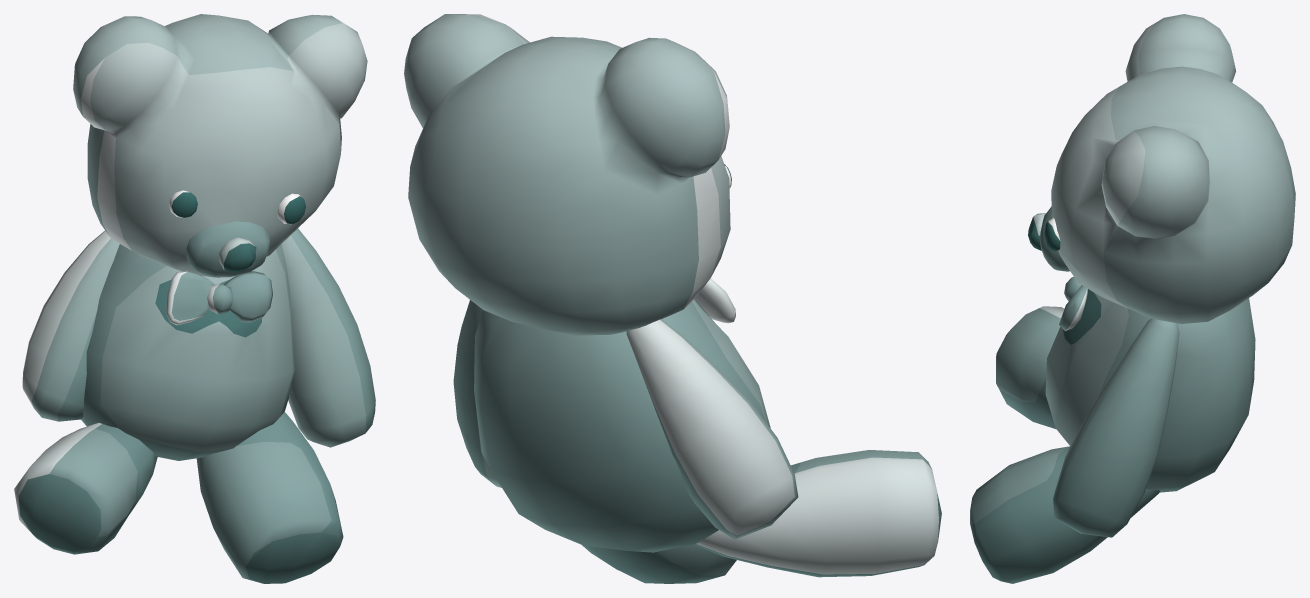
Rendered from Mercy_Bear.fbx.
3 renders of one model, left to right at view 1: azimuth 30°, elevation 25°; view 2: azimuth 150°, elevation 25°; view 3: azimuth 270°, elevation 25°, orthographic. The views are drawn at different scales.
Parts seen in each view (by area): view 1: Mercy_Bear; view 2: Mercy_Bear; view 3: Mercy_Bear.
Boxes of the visible parts, x1,y1,x2,y2 form: Mercy_Bear: [14, 14, 375, 583]; Mercy_Bear: [404, 14, 941, 583]; Mercy_Bear: [970, 14, 1295, 583].
Size of the model in its own units: 18 by 23.06 by 12.9.
